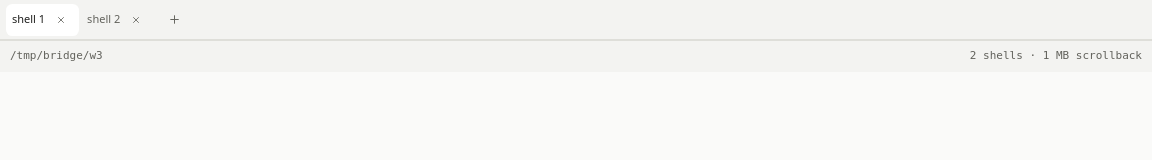
TerminalPane multi-shell › clears an exited mark when the reopened shell speaks
The width and height of the screenshot is (1152, 160).
Click the button "shell 1" at (29, 20), box 12,6 -> 45,34
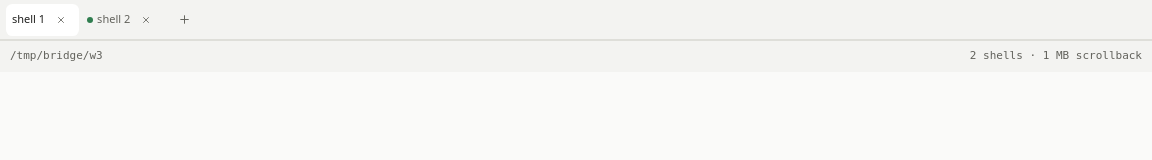
expect the element named "New output" is shown: met, box 87,16 -> 93,22
